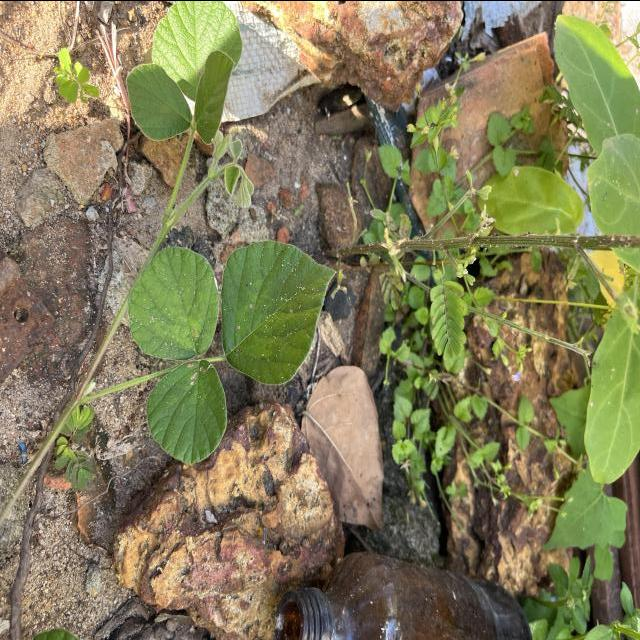Pseudarthria viscida: (126, 238, 340, 466)
